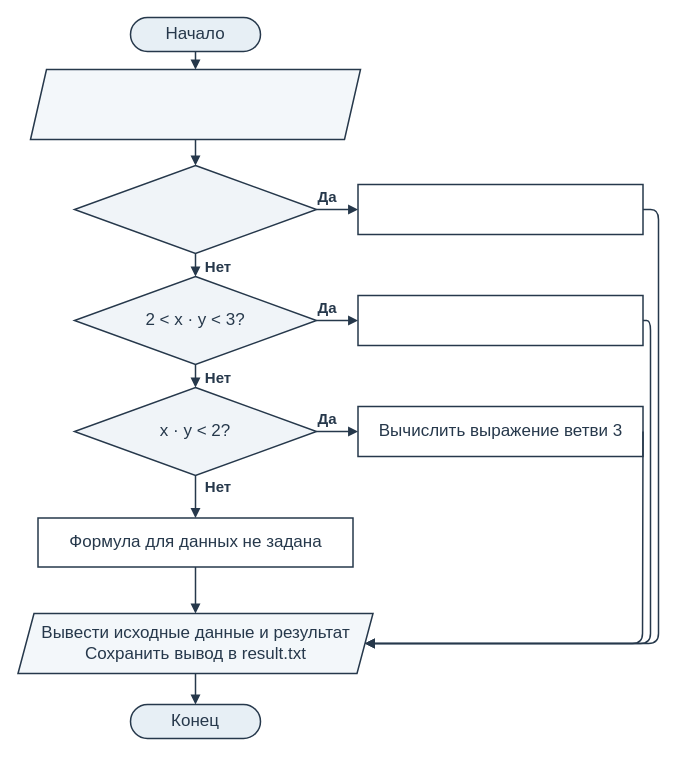
The diagram is 684 pixels wide and 757 high, and some of its shapes have lost their labels. Each missing label, with the centre of its shape:
x · y > 3?: the point at 195,209
Ввести числа с клавиатуры Повторить запрос при ошибке x, y, c, d: the point at 195,104
Вычислить выражение ветви 1: the point at 500,209
Вычислить выражение ветви 2: the point at 500,320
